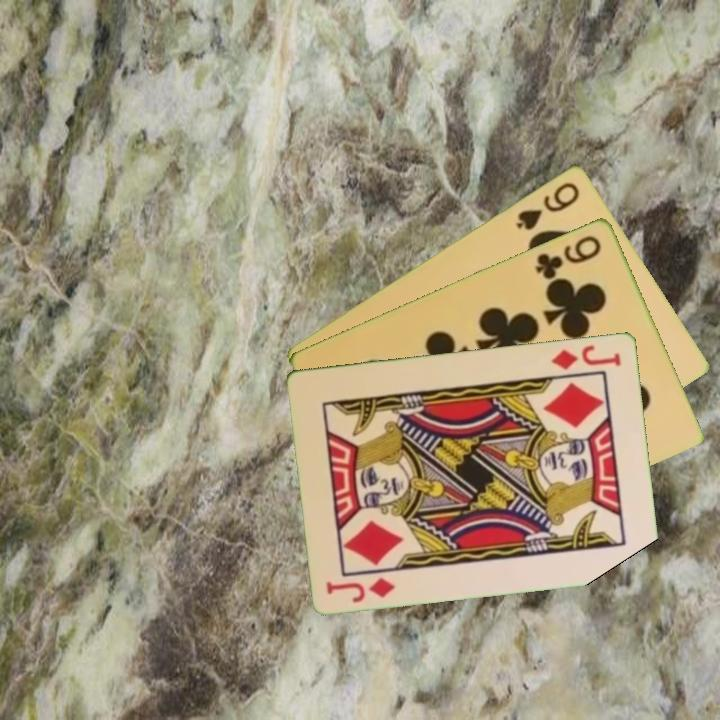9c: (531, 231, 604, 282)
9s: (512, 177, 583, 233)
Jd: (548, 340, 624, 373), (323, 573, 399, 605)
